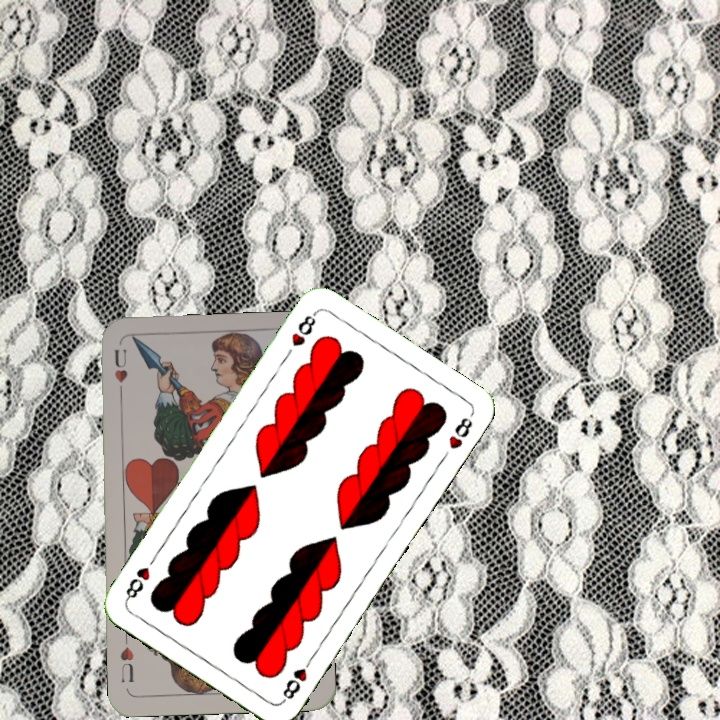H8: (278, 652, 316, 705), (287, 308, 319, 349)
HU: (110, 344, 130, 401)
